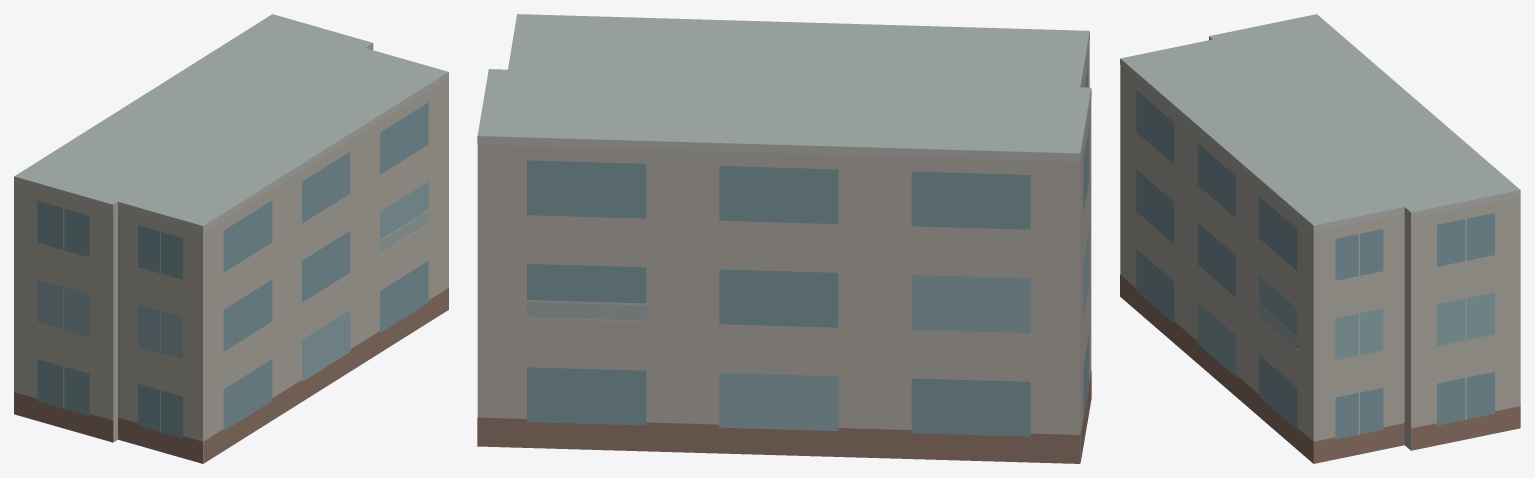
Rendered from survey-upis-32705175.glb.
3 views of the same model, side by side, from view 1: azimuth 30°, elevation 25°; view 2: azimuth 150°, elevation 25°; view 3: azimuth 270°, elevation 25° (orthographic). The views are drawn at different scales.
Parts seen in each view (by area): view 1: survey-upis-32705175.tmp; view 2: survey-upis-32705175.tmp; view 3: survey-upis-32705175.tmp.
Part boxes in pixels (bbox=[...]): survey-upis-32705175.tmp: bbox=[14, 14, 448, 463]; survey-upis-32705175.tmp: bbox=[477, 14, 1091, 463]; survey-upis-32705175.tmp: bbox=[1120, 14, 1520, 463].
Size of the model in its own units: 17.45 by 9.15 by 13.95.
